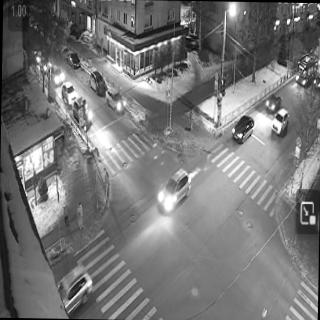large-vehicle: (292, 48, 317, 90)
small-vehicle: (157, 165, 188, 212), (59, 263, 88, 310), (230, 111, 251, 148), (105, 84, 126, 115), (270, 108, 291, 137), (75, 98, 92, 130), (61, 80, 74, 108), (49, 59, 62, 87), (31, 49, 48, 70), (266, 92, 281, 115)
